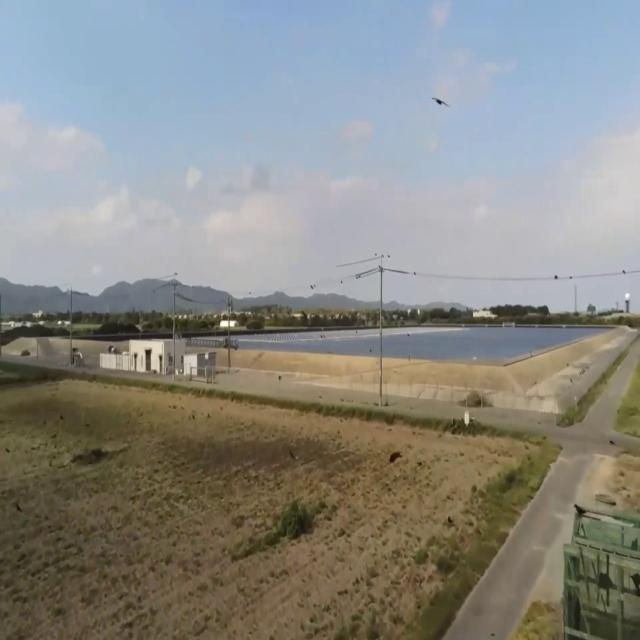bird: (431, 84, 450, 117), (15, 496, 22, 516), (290, 443, 296, 464)
